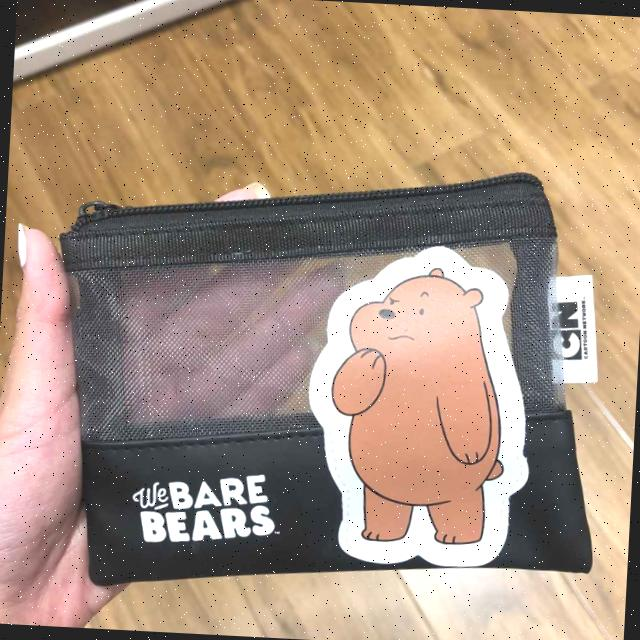handbag: (43, 148, 611, 614)
